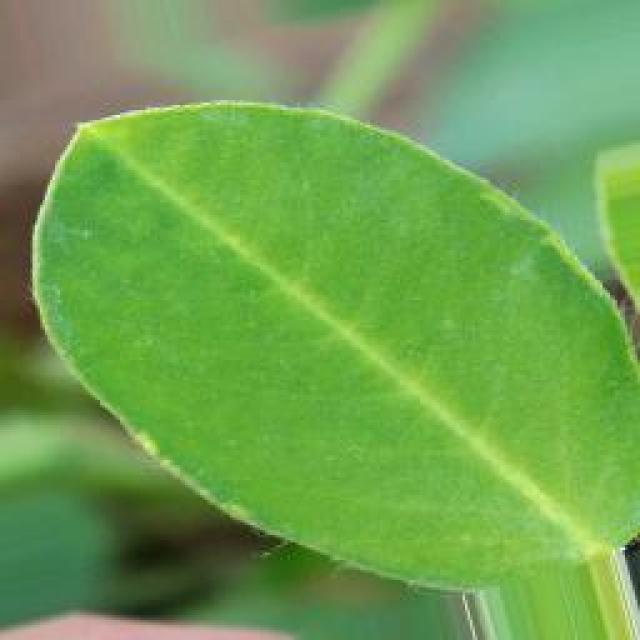Yellow_and_black_sigatoka: (34, 99, 640, 604)
